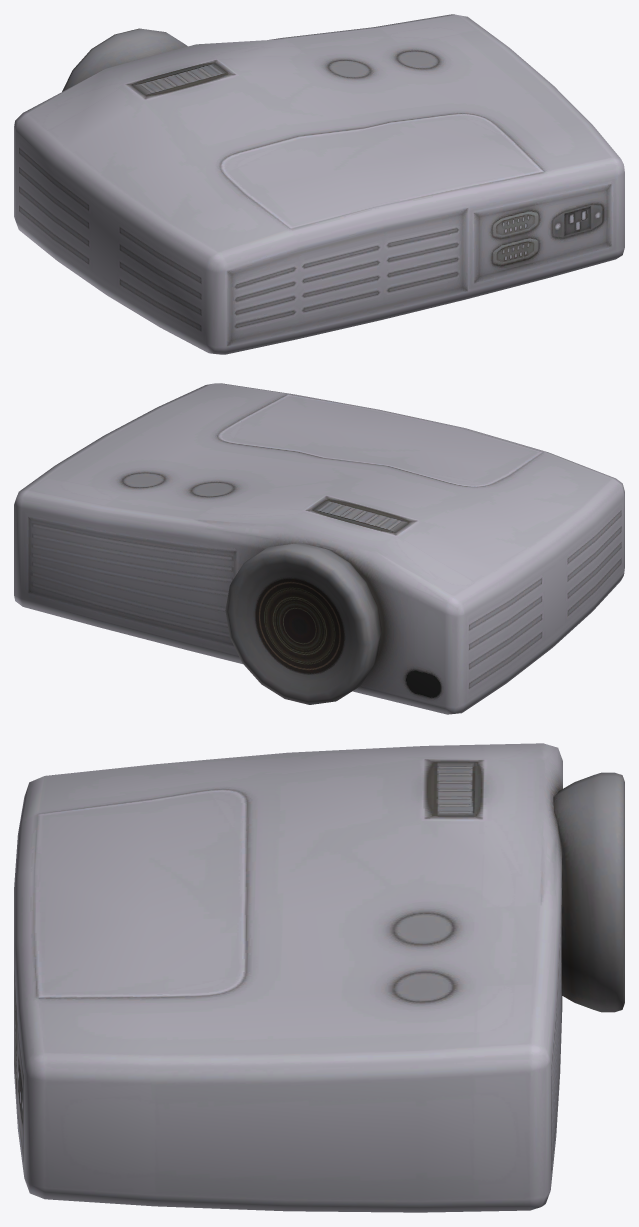
File: OfficeProjector01.fbx
3 views of the same model, one above another, from view 1: azimuth 30°, elevation 25°; view 2: azimuth 150°, elevation 25°; view 3: azimuth 270°, elevation 25° (orthographic). The views are drawn at different scales.
Visible parts, largest first — view 1: OfficeProjector01A; view 2: OfficeProjector01A; view 3: OfficeProjector01A.
Part boxes in pixels (left/top/right/bottom): OfficeProjector01A: left=14, top=14, right=624, bottom=354; OfficeProjector01A: left=14, top=383, right=624, bottom=714; OfficeProjector01A: left=14, top=743, right=624, bottom=1212.
Bounding box in the file's own units: 0.6703 × 0.2252 × 0.5427.
1 material, 1 textured.
